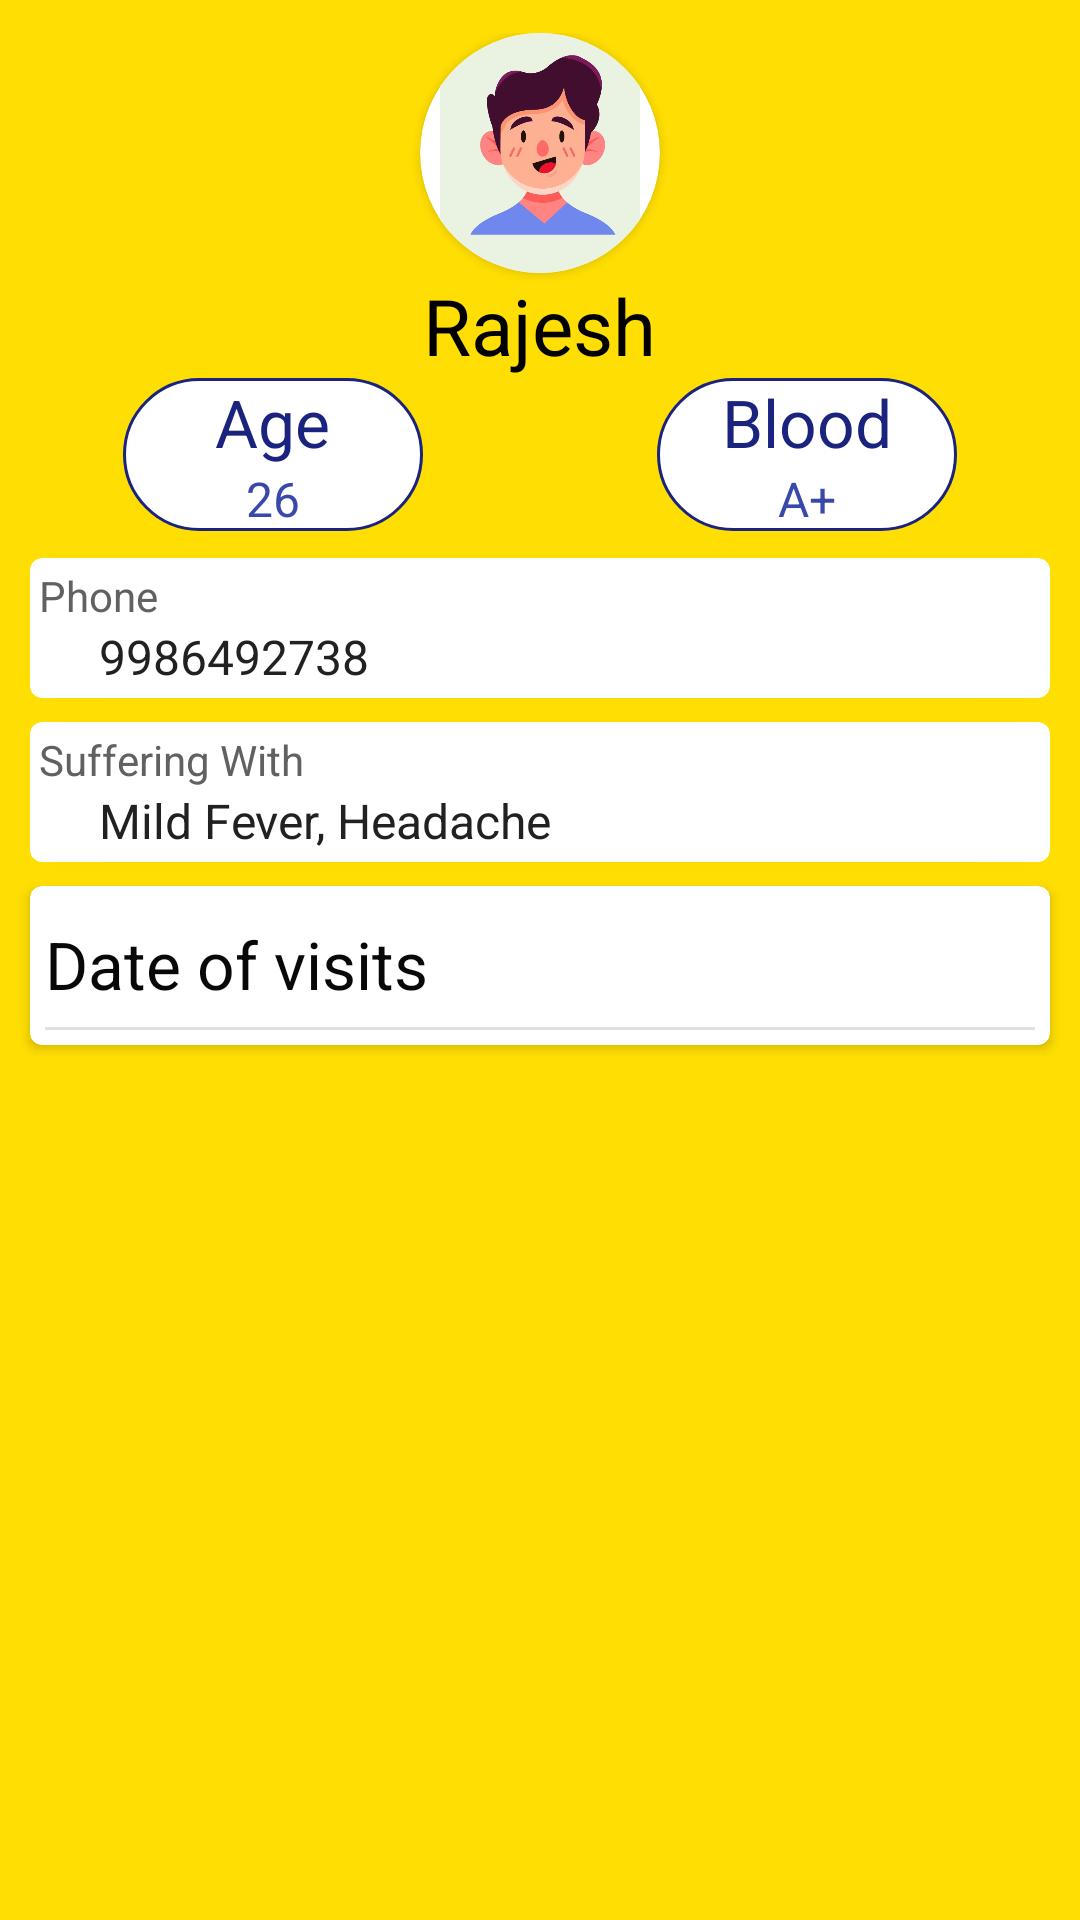

Point at icon controls on the screen. Image size 1080 × 1920, points as (x,y).
boyone: (540,153)
